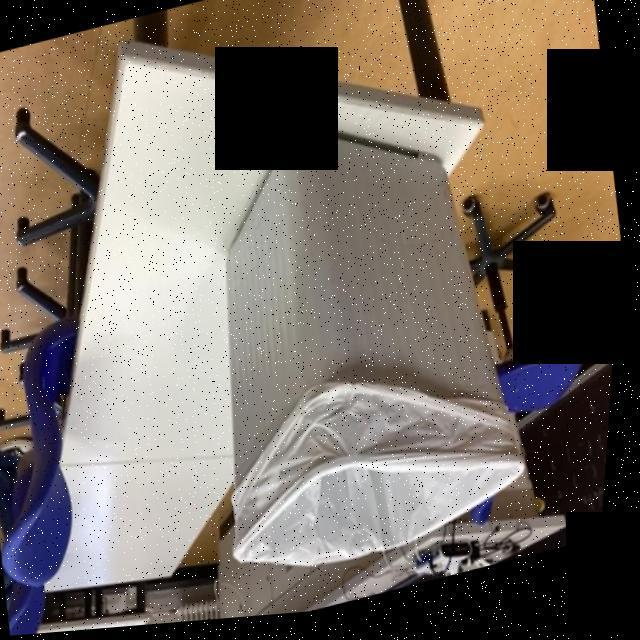bin: (150, 54, 596, 628)
